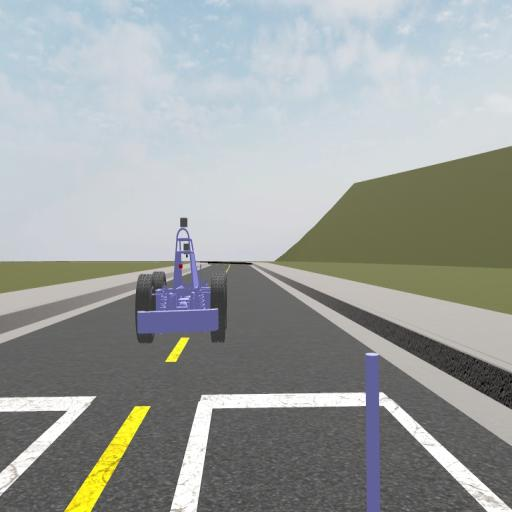ERP-42: (135, 216, 228, 344)
